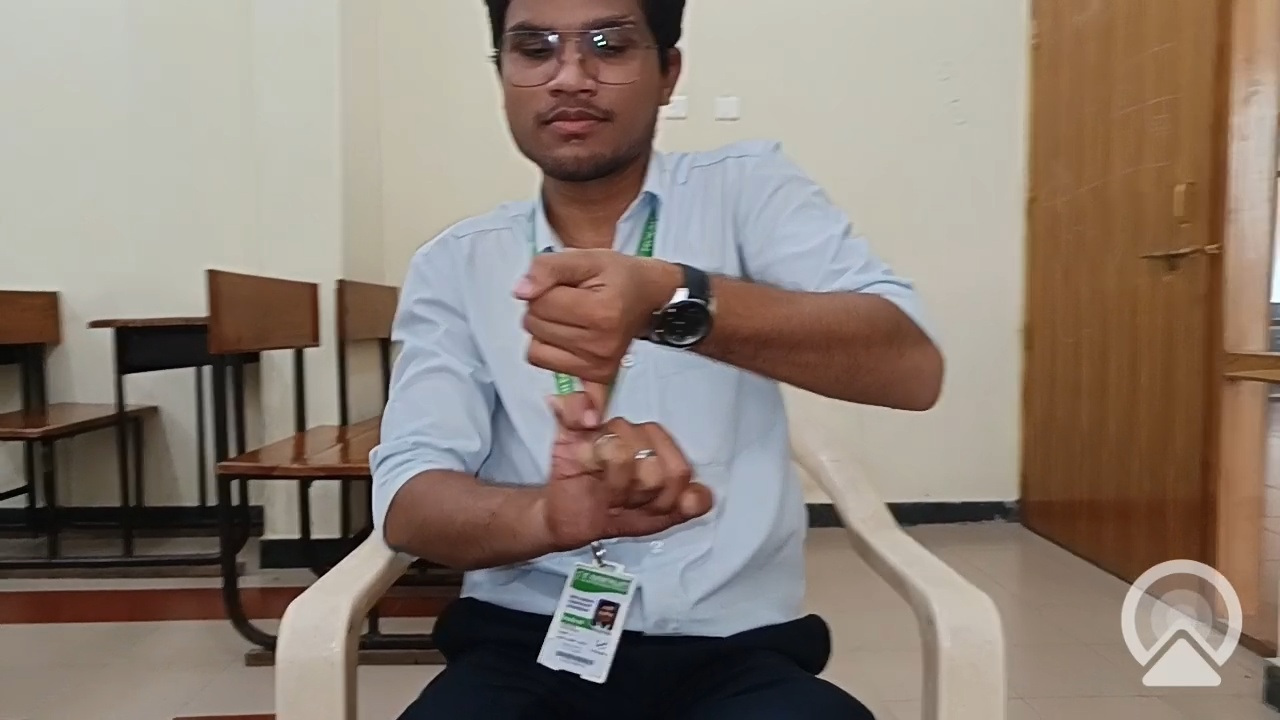S: (476, 198, 767, 568)
